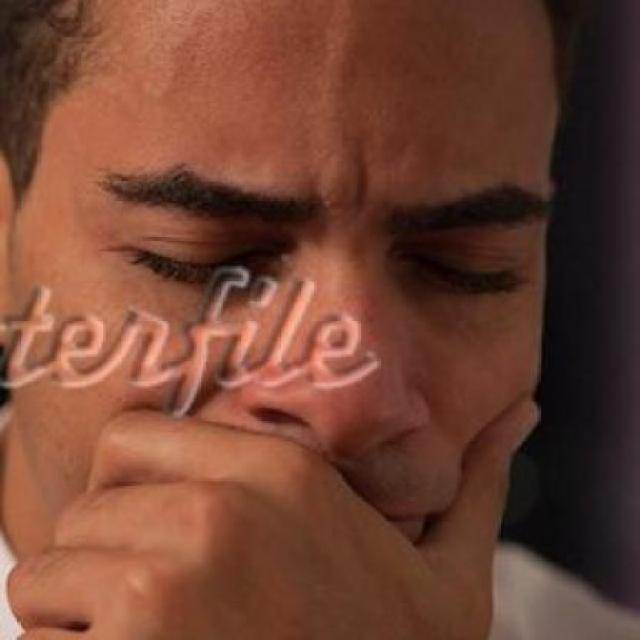drowsy: (396, 245, 521, 301), (128, 239, 262, 287)
